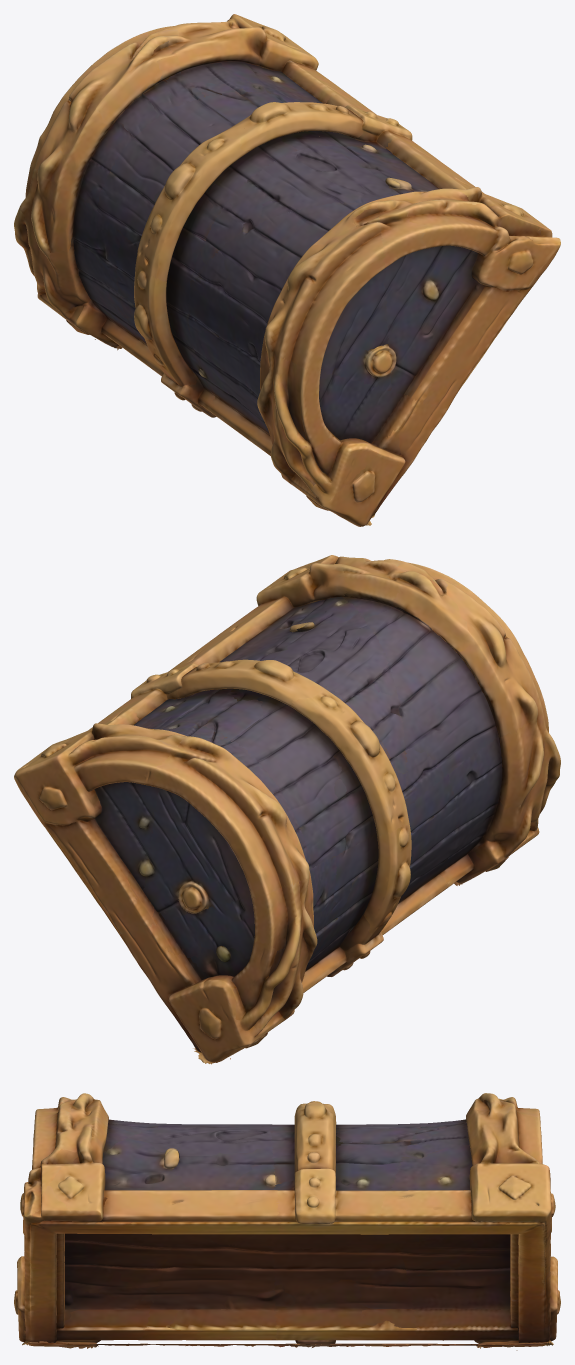
Rendered from ChestTop.fbx.
The picture shows the model from 3 angles, top to bottom: view 1: azimuth 30°, elevation 25°; view 2: azimuth 150°, elevation 25°; view 3: azimuth 270°, elevation 25°; orthographic projection. The views are drawn at different scales.
Visible parts, largest first — view 1: tripo_node_efc97db5; view 2: tripo_node_efc97db5; view 3: tripo_node_efc97db5.
Boxes of the visible parts, left/top/right/bottom form: tripo_node_efc97db5: left=14, top=14, right=560, bottom=526; tripo_node_efc97db5: left=14, top=555, right=560, bottom=1064; tripo_node_efc97db5: left=14, top=1093, right=560, bottom=1350.
Bounding box in the file's own units: 52.78 × 55.28 × 99.05.
